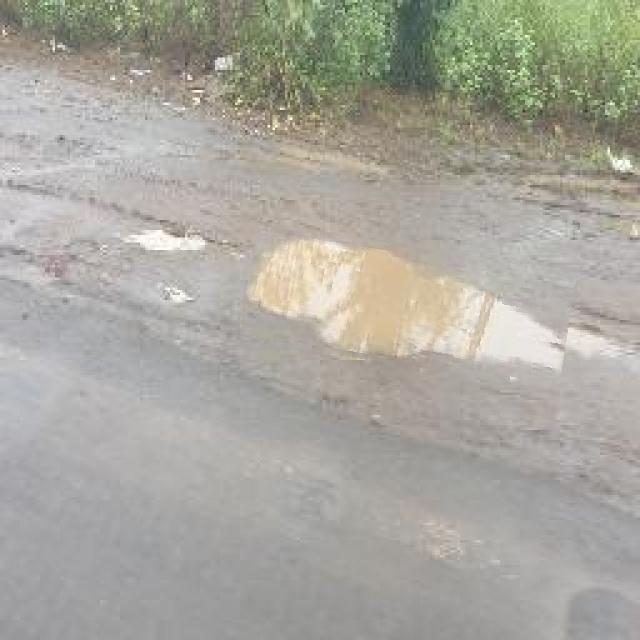puddle: (244, 235, 574, 379)
